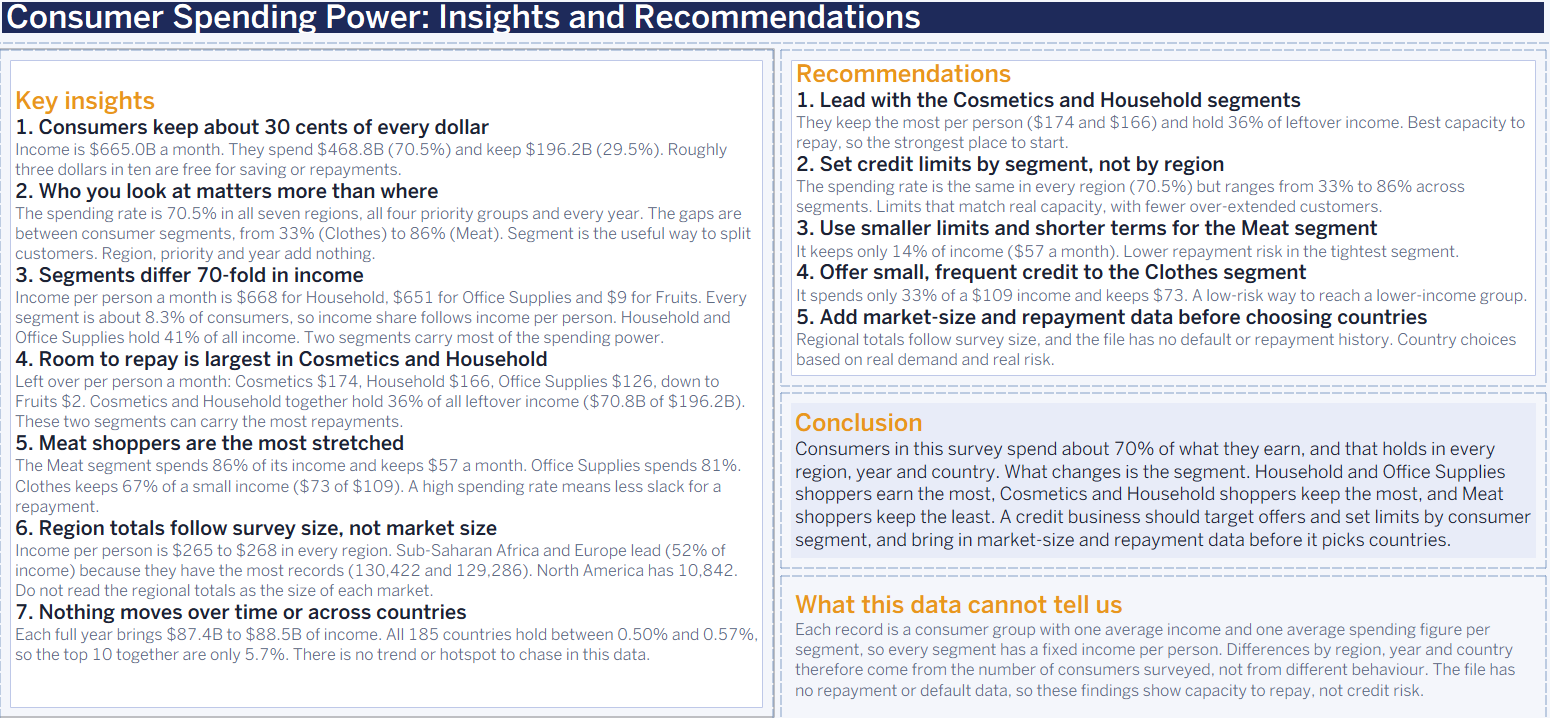

Layout of this report page (visuals, bound fields, positions):
{"tool":"tableau","page":{"name":"Insights","canvas":[1000,1000],"units":"permille","ordinal":2},"visuals":[{"type":"text","box":[0,0,1000,70]},{"type":"text","box":[5,80,495,915]},{"type":"text","box":[505,80,490,460]},{"type":"text","box":[505,550,490,240]},{"type":"text","box":[505,800,490,195]}]}

Visuals, with their boxes on the dashboard's canvas, which has no fixed pixel size, in thousandths of its width and height (x1, y1, x2, y2). These are canvas units, not pixel positions in the 1550x718 screenshot, which may show the page scaled, cropped or inside an application window:
text: 0, 0, 1000, 70
text: 5, 80, 500, 995
text: 505, 80, 995, 540
text: 505, 550, 995, 790
text: 505, 800, 995, 995
